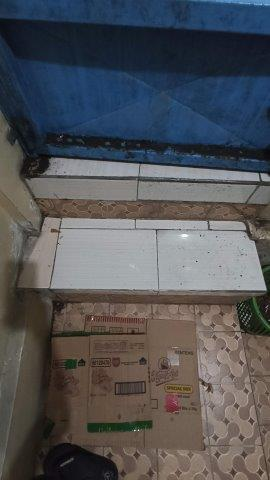kardus: (46, 316, 203, 448)
